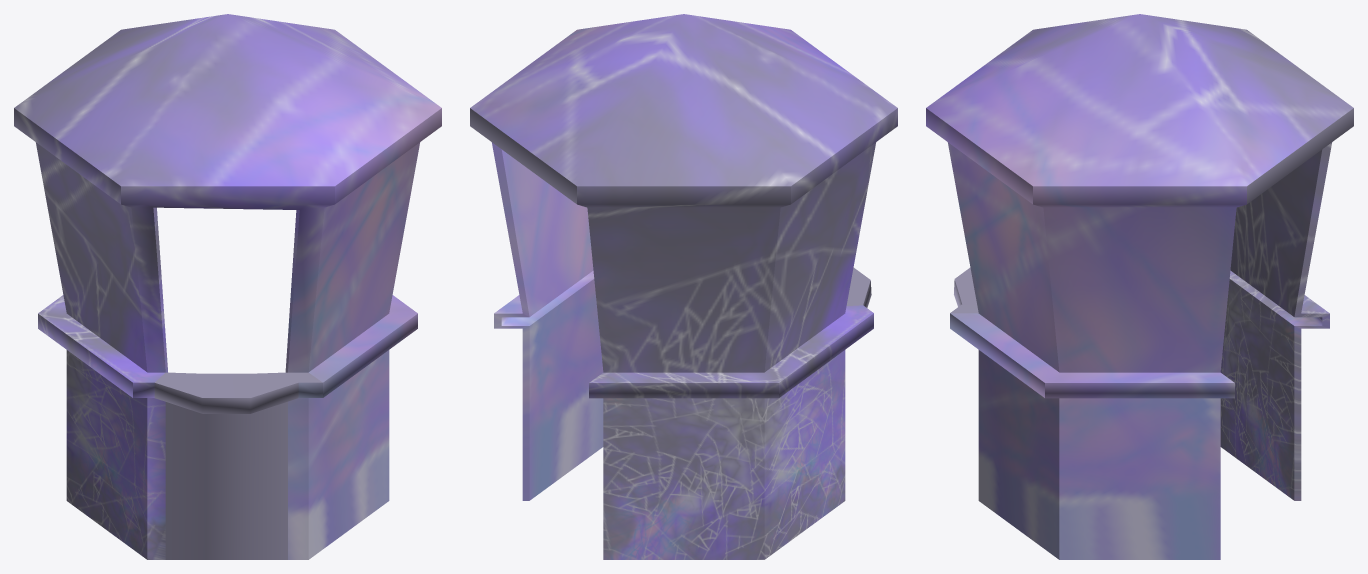
File: KioskBoothv2.fbx
The picture shows the model from 3 angles, left to right: view 1: azimuth 30°, elevation 25°; view 2: azimuth 150°, elevation 25°; view 3: azimuth 270°, elevation 25°; orthographic projection.
Visible parts, largest first — view 1: KioskBoothv2; view 2: KioskBoothv2; view 3: KioskBoothv2.
Part boxes in pixels (left/top/right/bottom): KioskBoothv2: left=14, top=14, right=441, bottom=559; KioskBoothv2: left=470, top=14, right=897, bottom=559; KioskBoothv2: left=926, top=14, right=1353, bottom=559.
Bounding box in the file's own units: 288 × 418 × 333.
